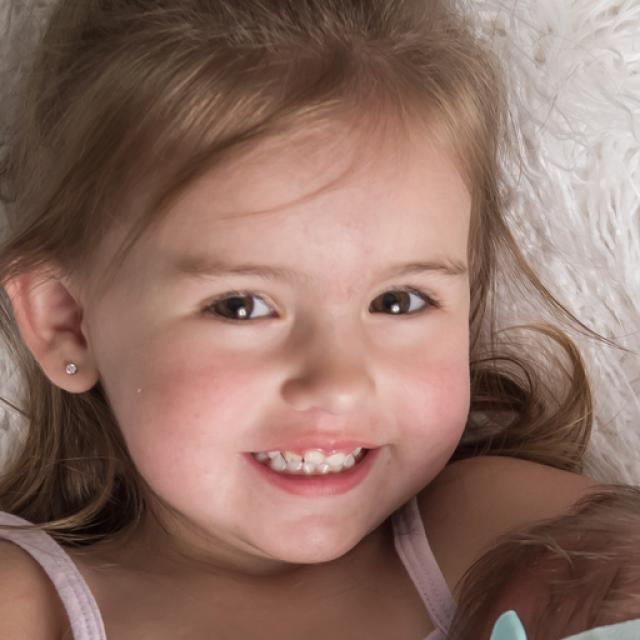happy: (112, 95, 476, 566)
